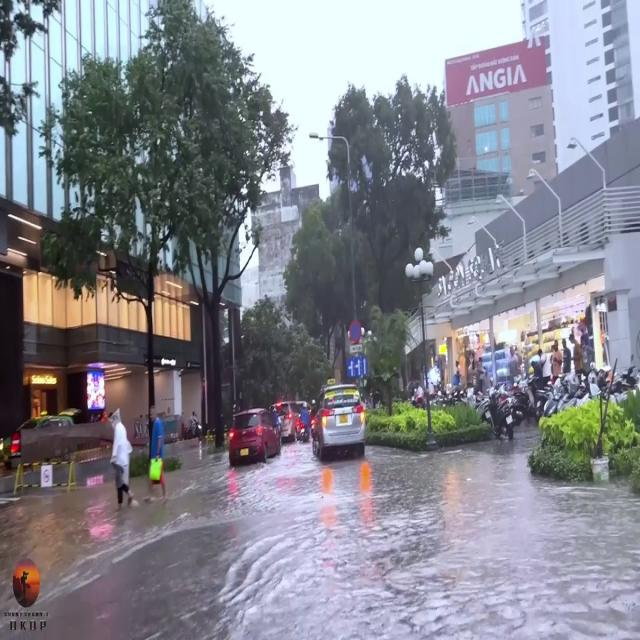bien_vang: (339, 414, 348, 424), (240, 449, 248, 455)
